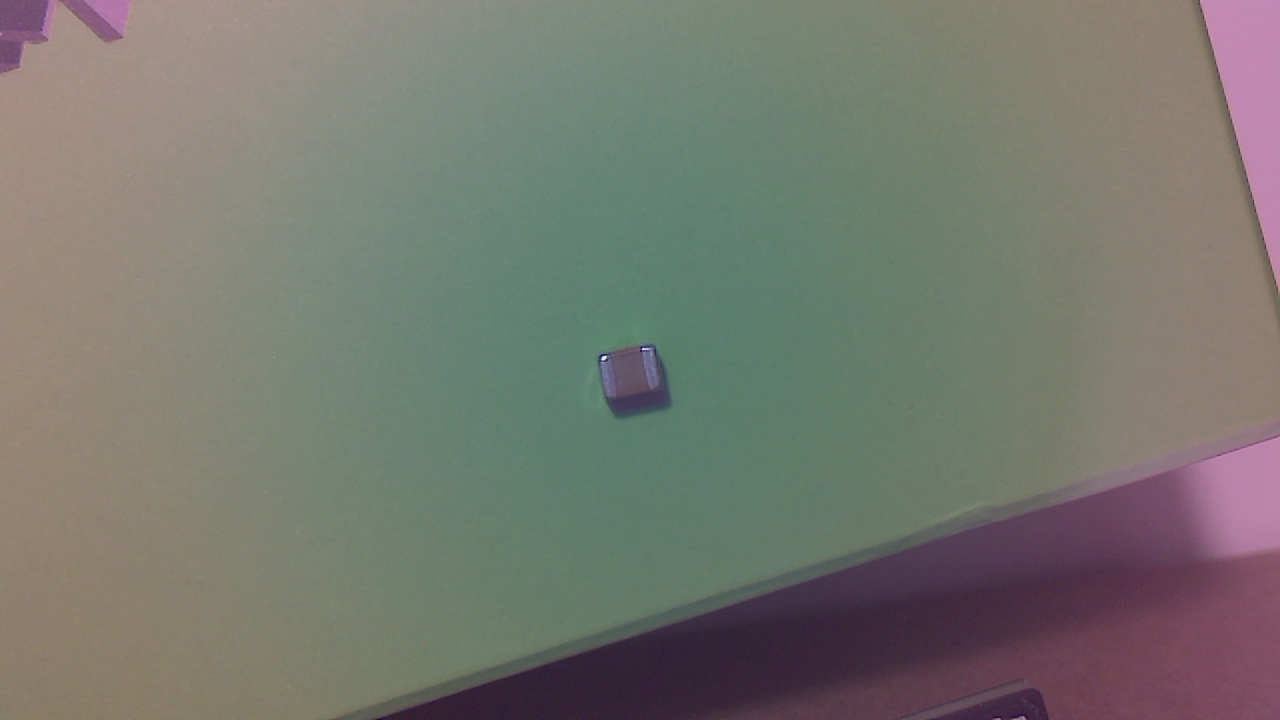Condensator: (603, 347, 672, 414)
